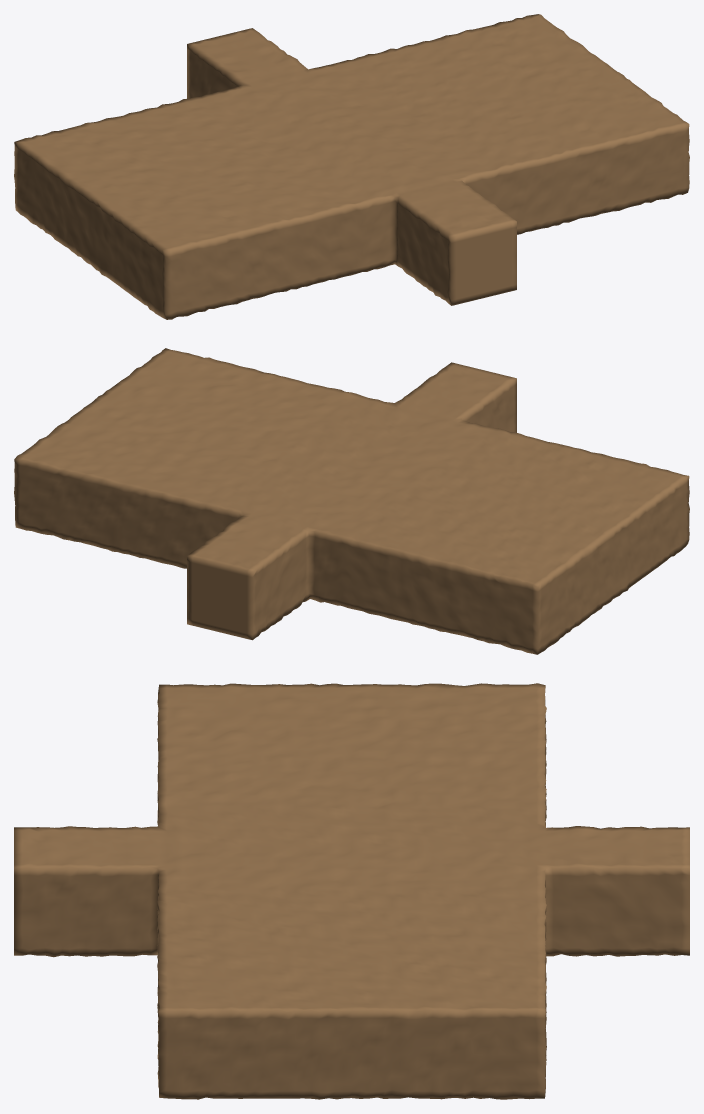
The model's file is Cave Room 1.fbx.
3 renders of one model, top to bottom at view 1: azimuth 30°, elevation 25°; view 2: azimuth 150°, elevation 25°; view 3: azimuth 270°, elevation 25°, orthographic. The views are drawn at different scales.
Visible parts, largest first — view 1: Cave Room 1; view 2: Cave Room 1; view 3: Cave Room 1.
Boxes of the visible parts, left/top/right/bottom form: Cave Room 1: left=14, top=14, right=689, bottom=319; Cave Room 1: left=14, top=348, right=689, bottom=654; Cave Room 1: left=14, top=683, right=689, bottom=1099.
Bounding box in the file's own units: 64.29 × 8.29 × 56.
